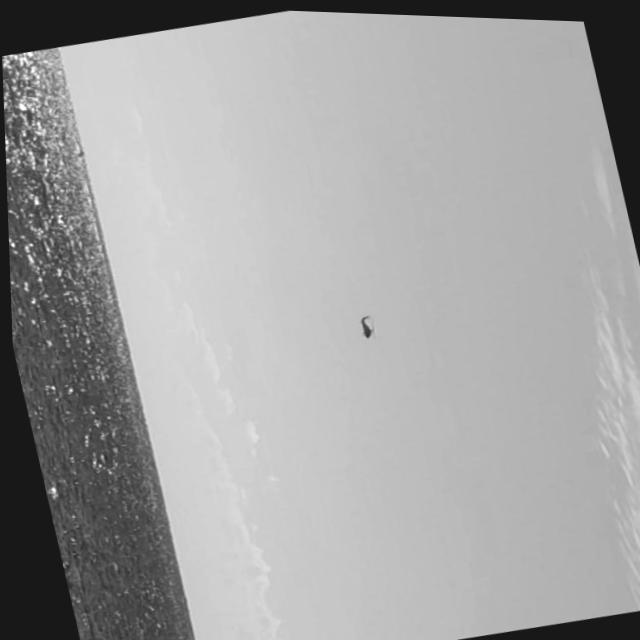helikopter: (330, 289, 395, 351)
